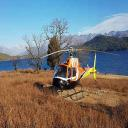helicopter: (39, 43, 123, 103)
